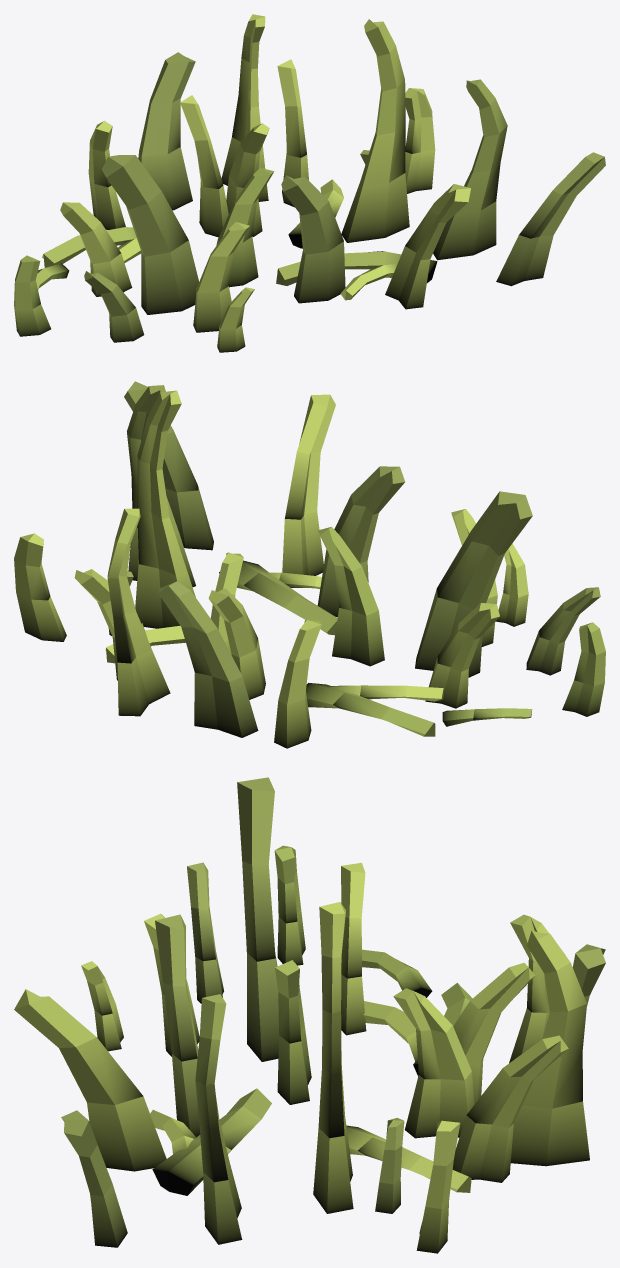
File: EA03_Plant_Grass_01e.glb
The picture shows the model from 3 angles, top to bottom: view 1: azimuth 30°, elevation 25°; view 2: azimuth 150°, elevation 25°; view 3: azimuth 270°, elevation 25°; orthographic projection. The views are drawn at different scales.
Visible parts, largest first — view 1: EA03_Plant_Grass_01e; view 2: EA03_Plant_Grass_01e; view 3: EA03_Plant_Grass_01e.
Boxes of the visible parts, bbox=[...] form: EA03_Plant_Grass_01e: bbox=[14, 14, 605, 352]; EA03_Plant_Grass_01e: bbox=[14, 381, 605, 748]; EA03_Plant_Grass_01e: bbox=[14, 777, 605, 1253].
Size of the model in its own units: 1.7 by 0.6845 by 1.25.
1 material, 1 textured.
